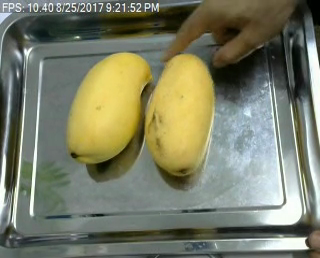Mango: (138, 49, 219, 179), (64, 50, 152, 167)
